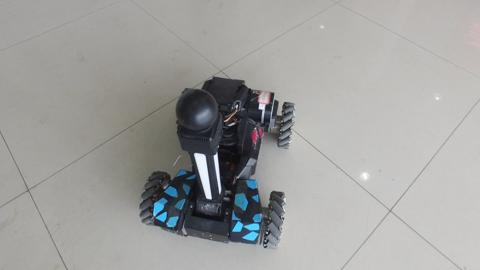chariot: (132, 50, 296, 243)
